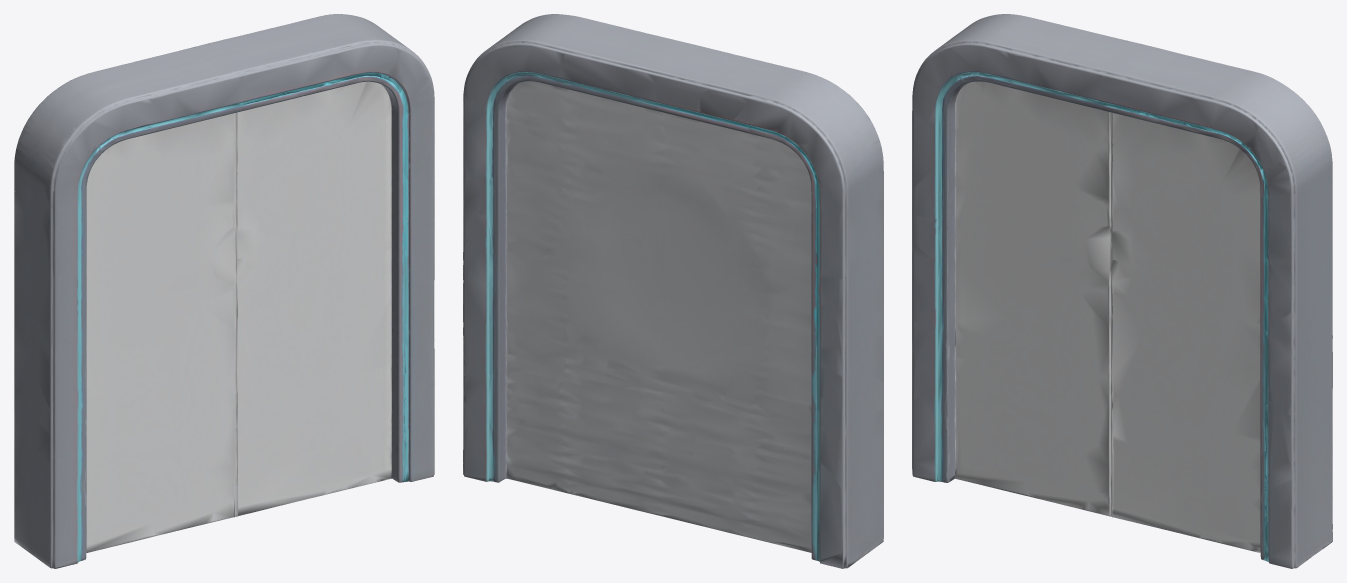
File: bm-env-rear-portal-web-v001.glb
The picture shows the model from 3 angles, left to right: view 1: azimuth 30°, elevation 25°; view 2: azimuth 150°, elevation 25°; view 3: azimuth 330°, elevation 25°; orthographic projection.
Visible parts, largest first — view 1: tripo_node_d870b290-ae6f-45de-9663-3227d86ab2e7; view 2: tripo_node_d870b290-ae6f-45de-9663-3227d86ab2e7; view 3: tripo_node_d870b290-ae6f-45de-9663-3227d86ab2e7.
Boxes of the visible parts, <box> form: tripo_node_d870b290-ae6f-45de-9663-3227d86ab2e7: <box>14,14,434,568</box>; tripo_node_d870b290-ae6f-45de-9663-3227d86ab2e7: <box>463,14,883,568</box>; tripo_node_d870b290-ae6f-45de-9663-3227d86ab2e7: <box>912,14,1332,568</box>.
Bounding box in the file's own units: 0.8726 × 0.9772 × 0.1593.
Materials: 1 (1 with a texture image).
